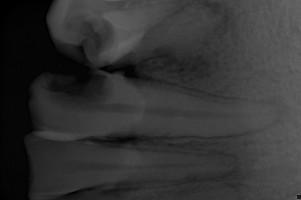Furcation Involvement: (186, 150, 244, 182), (194, 0, 239, 39)
